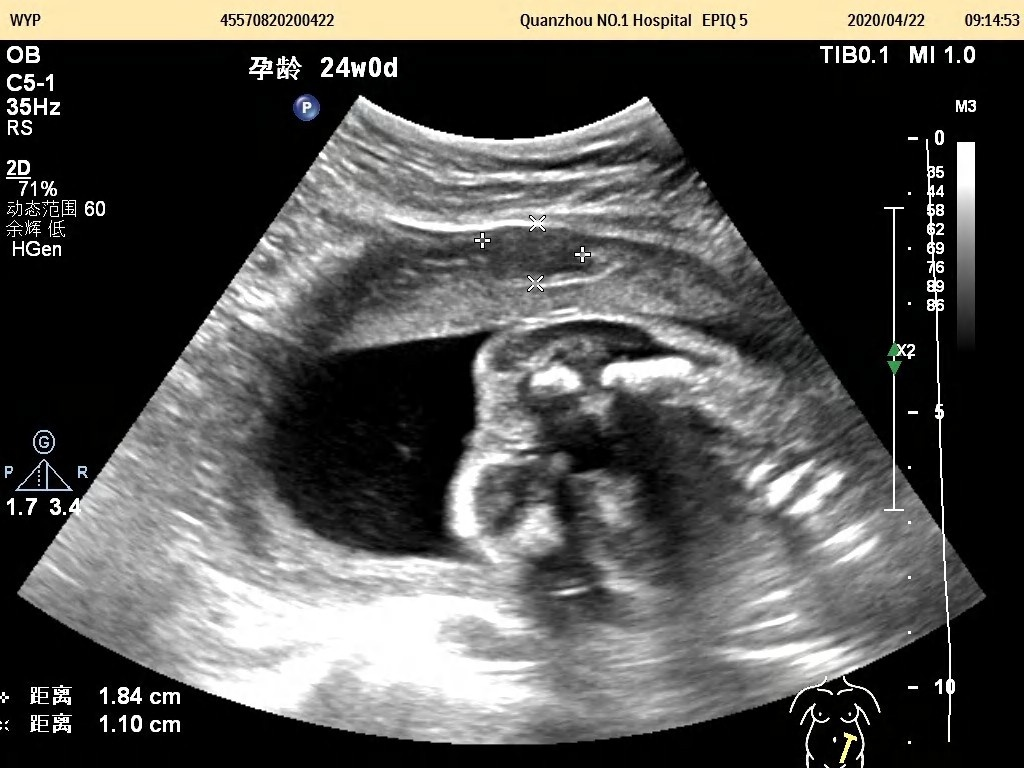肌瘤: (485, 226, 585, 278)
